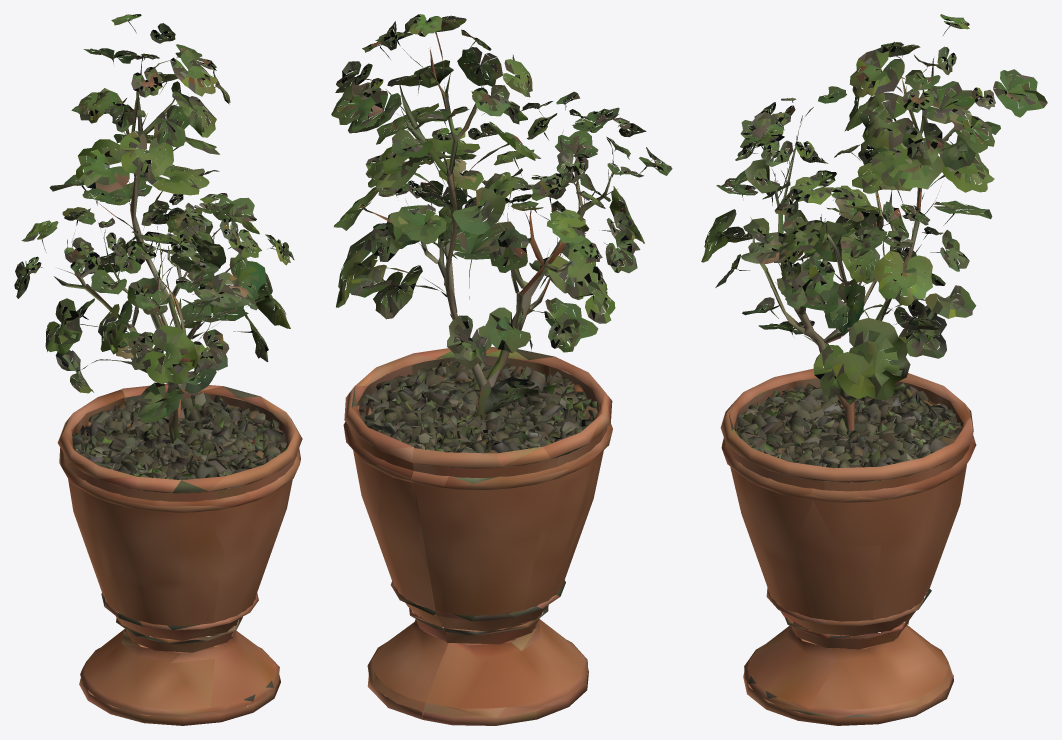
The model's file is potted_tree.glb.
The picture shows the model from 3 angles, left to right: view 1: azimuth 30°, elevation 25°; view 2: azimuth 150°, elevation 25°; view 3: azimuth 270°, elevation 25°; orthographic projection. The views are drawn at different scales.
Parts seen in each view (by area): view 1: potted_tree; view 2: potted_tree; view 3: potted_tree.
Part boxes in pixels (x1,y1,x2,y2): potted_tree: (14,14,302,725); potted_tree: (331,14,672,725); potted_tree: (701,14,1047,725).
Bounding box in the file's own units: 0.9538 × 2.18 × 1.03.
Materials: 1 (1 with a texture image).
